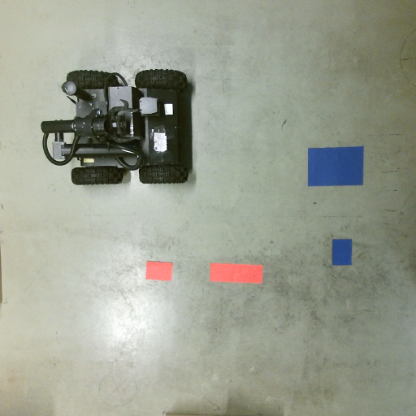Blue: (306, 148, 366, 187), (331, 238, 355, 268)
Jaguar: (38, 66, 191, 185)
Red: (206, 262, 263, 286), (145, 259, 175, 283)
